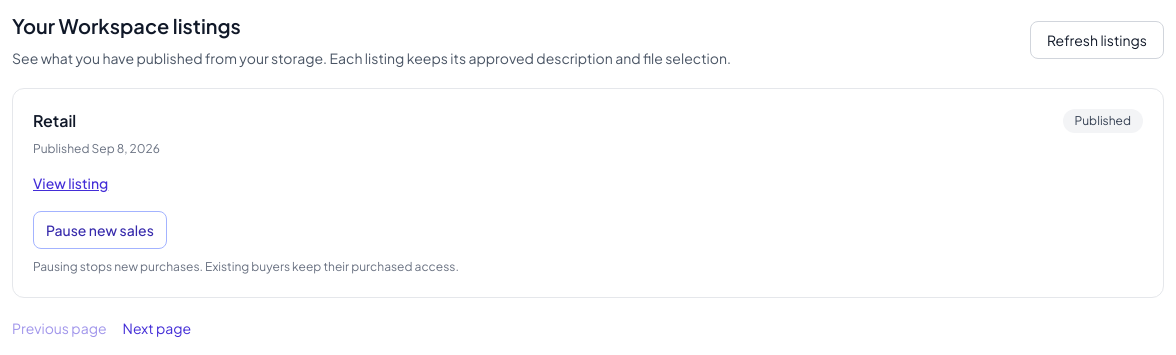
Scenario: loads only when opened and pages through saved publications
Expected: the heading "Retail" is shown, [33,109,76,133]
Expected: the text "Published" is shown, [1062,109,1143,133]
Click the button "Next page".
click(157, 328)  # box [123,318,191,338]
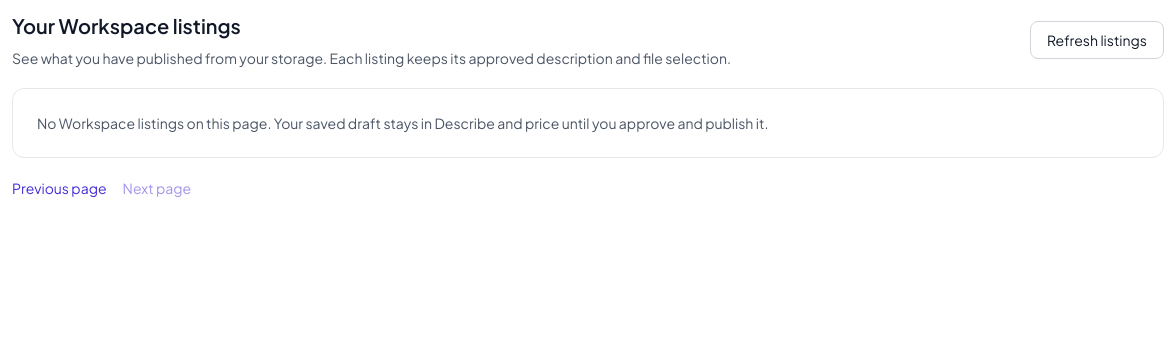
Expected: the text "No Workspace listings on this page" is shown, [37,114,768,132]
Expected: the button "Next page" is disabled, [123,178,191,198]
